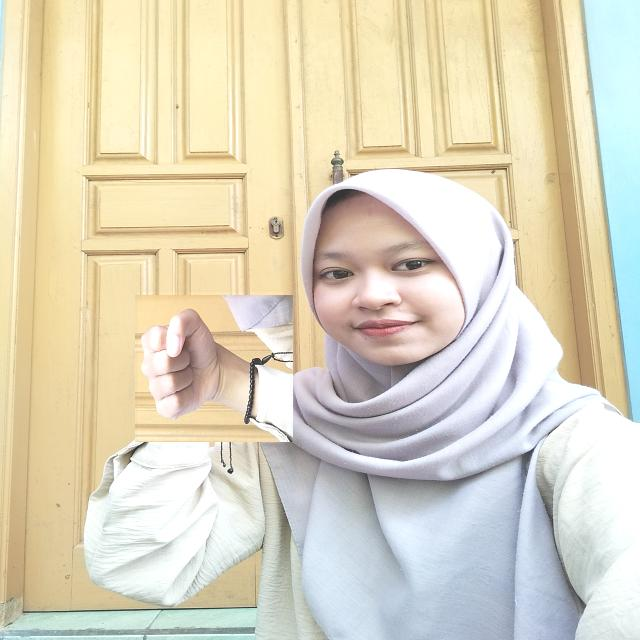baik: (138, 292, 290, 444)
